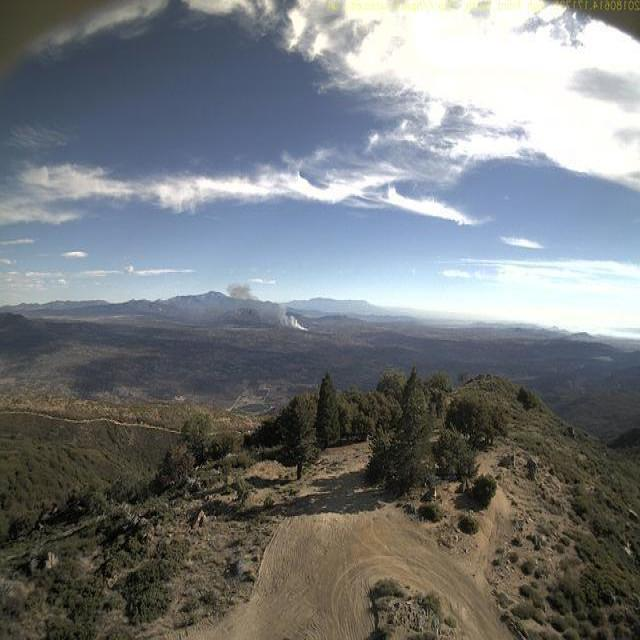Smoke: (221, 277, 316, 335)
